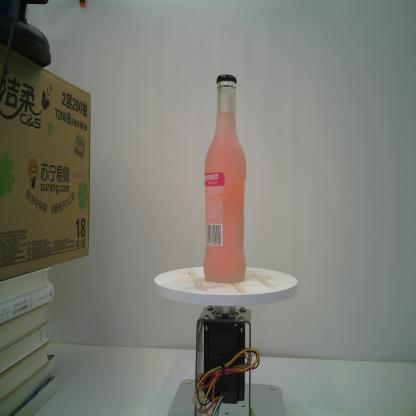Alcohol: (203, 73, 247, 284)
